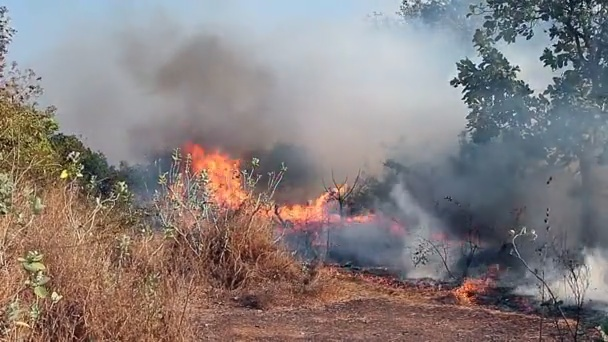fire: (459, 281, 476, 306), (58, 168, 67, 179)
